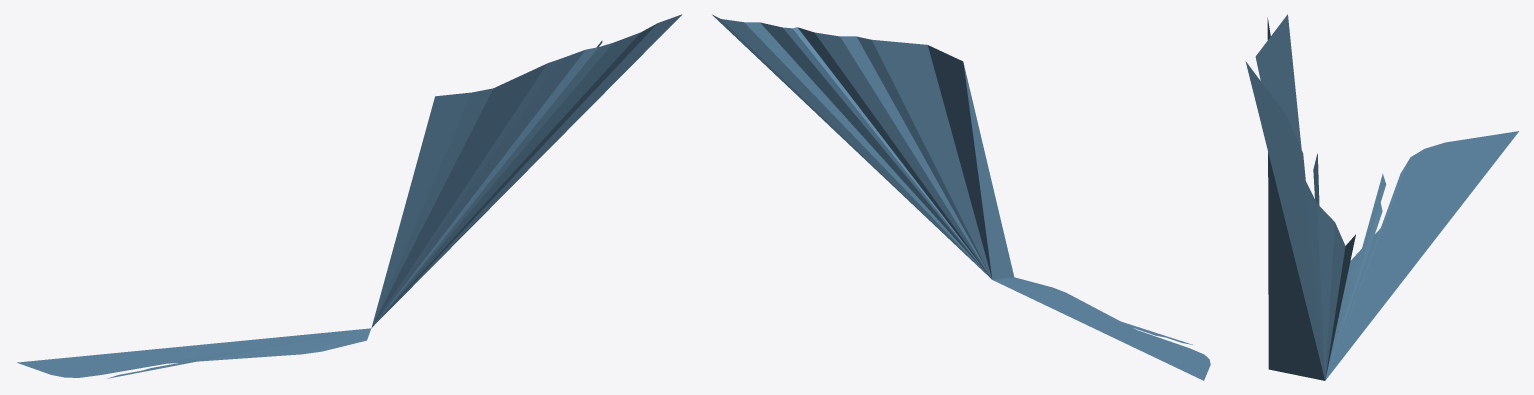
File: c_1636_17833_water.glb
The picture shows the model from 3 angles, left to right: view 1: azimuth 30°, elevation 25°; view 2: azimuth 150°, elevation 25°; view 3: azimuth 270°, elevation 25°; orthographic projection. The views are drawn at different scales.
Visible parts, largest first — view 1: geometry_0; view 2: geometry_0; view 3: geometry_0.
Boxes of the visible parts, left/top/right/bottom form: geometry_0: left=17, top=14, right=681, bottom=378; geometry_0: left=712, top=14, right=1210, bottom=380; geometry_0: left=1245, top=14, right=1518, bottom=380.
Bounding box in the file's own units: 1273 × 459 × 279.
